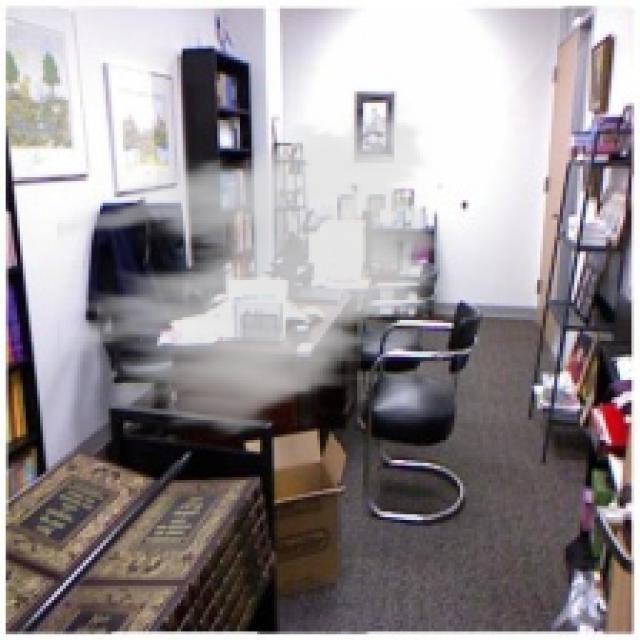smoke: (57, 97, 457, 446)
